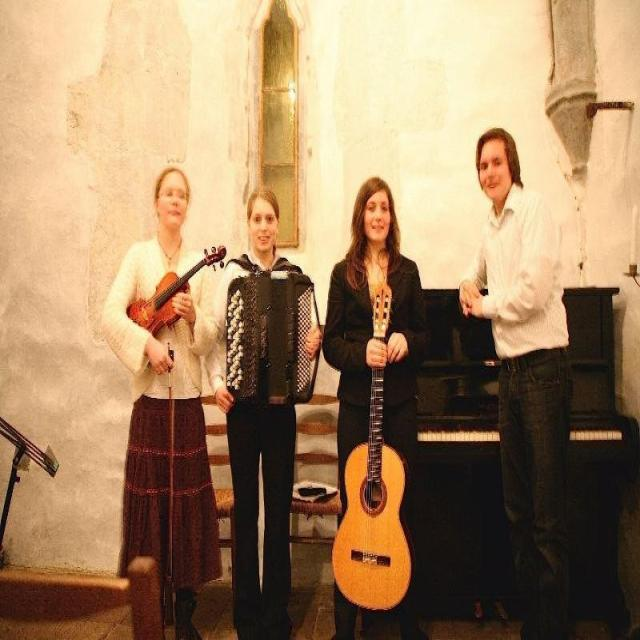guitar: (330, 282, 417, 613)
violin: (126, 244, 230, 338)
